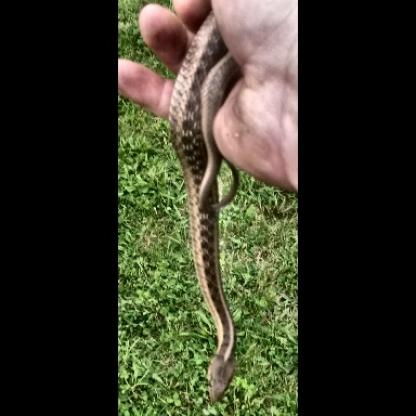Snake: (151, 9, 261, 409), (188, 290, 243, 402)
